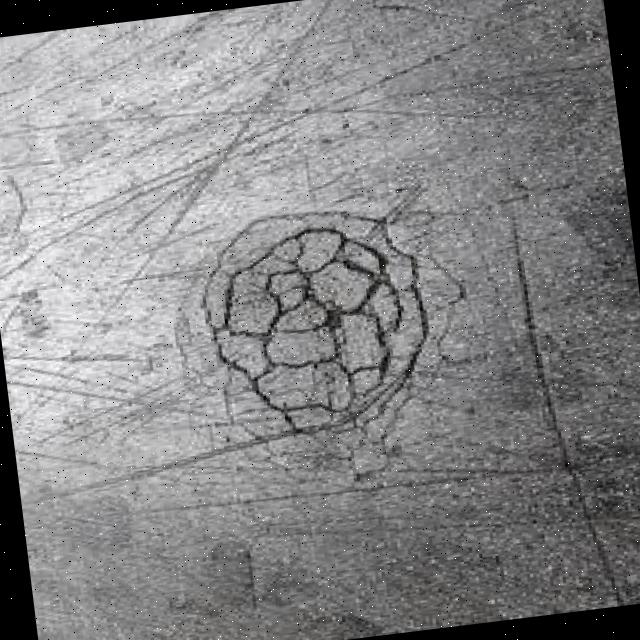road collapse: (114, 72, 552, 587)
